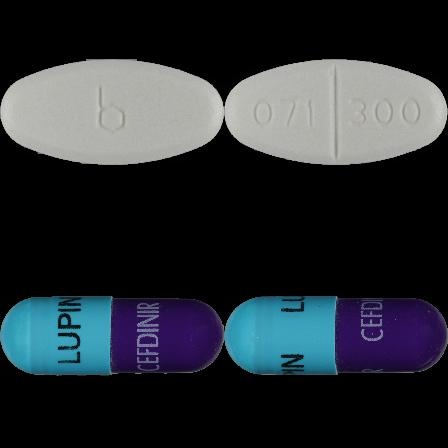43063-463: (0, 0, 224, 224)
